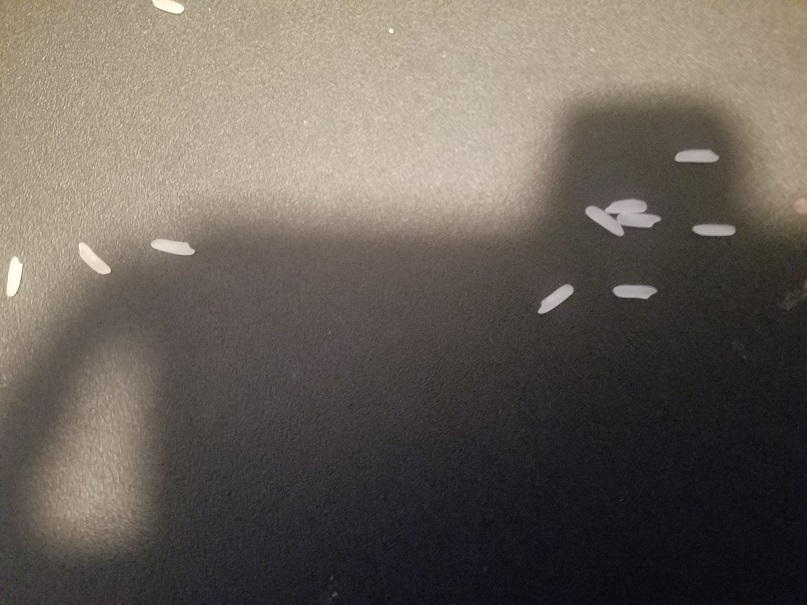egg: (76, 238, 113, 277), (534, 281, 576, 314), (584, 205, 626, 236), (148, 237, 195, 256), (5, 254, 24, 299), (689, 221, 737, 238), (612, 281, 658, 298), (603, 198, 646, 216), (673, 148, 721, 164), (617, 213, 663, 229), (150, 1, 186, 15)
